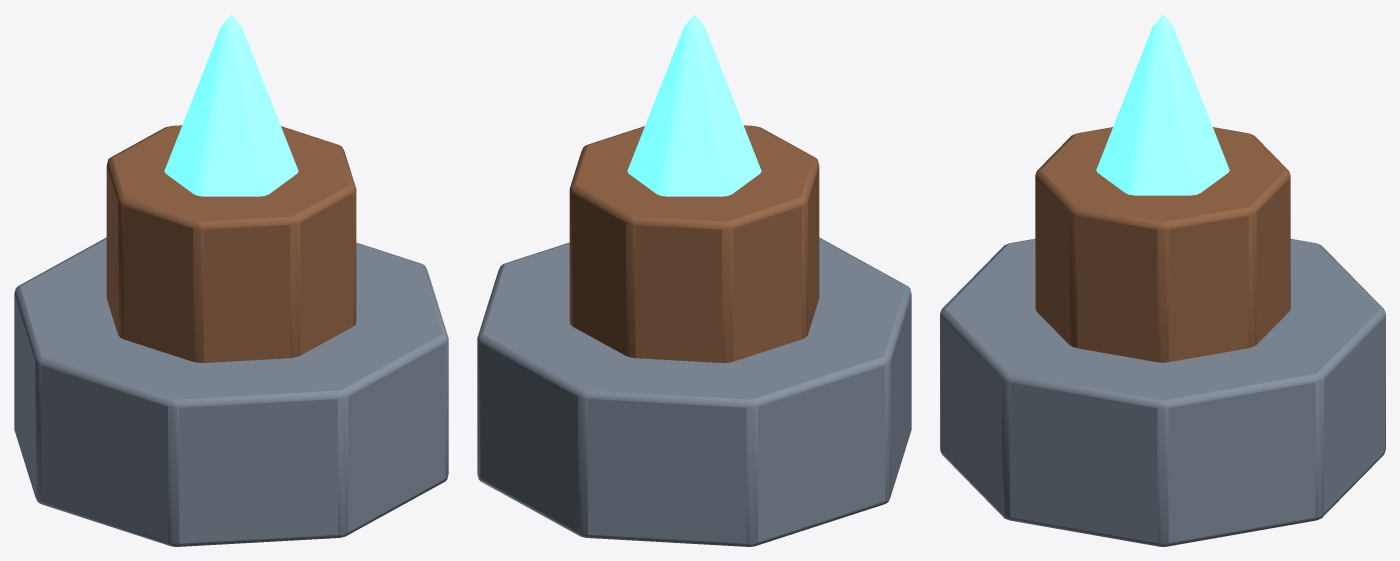
File: archertower.glb
The picture shows the model from 3 angles, left to right: view 1: azimuth 30°, elevation 25°; view 2: azimuth 150°, elevation 25°; view 3: azimuth 270°, elevation 25°; orthographic projection.
Visible parts, largest first — view 1: Base, ArcaneBody, CrystalSpire; view 2: Base, ArcaneBody, CrystalSpire; view 3: Base, ArcaneBody, CrystalSpire.
Boxes of the visible parts, x1,y1,x2,y2 form: Base: (14, 237, 448, 546); ArcaneBody: (106, 125, 356, 362); CrystalSpire: (164, 14, 298, 196); Base: (477, 237, 911, 546); ArcaneBody: (569, 125, 819, 362); CrystalSpire: (627, 14, 761, 196); Base: (940, 239, 1385, 546); ArcaneBody: (1035, 127, 1290, 362); CrystalSpire: (1096, 14, 1229, 195).
Bounding box in the file's own units: 2.48 × 2.71 × 2.48.
